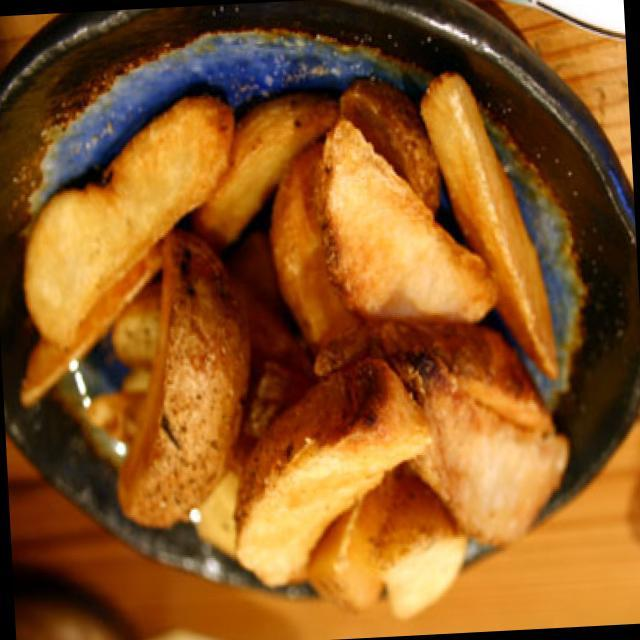French Fries: (28, 96, 571, 610)
